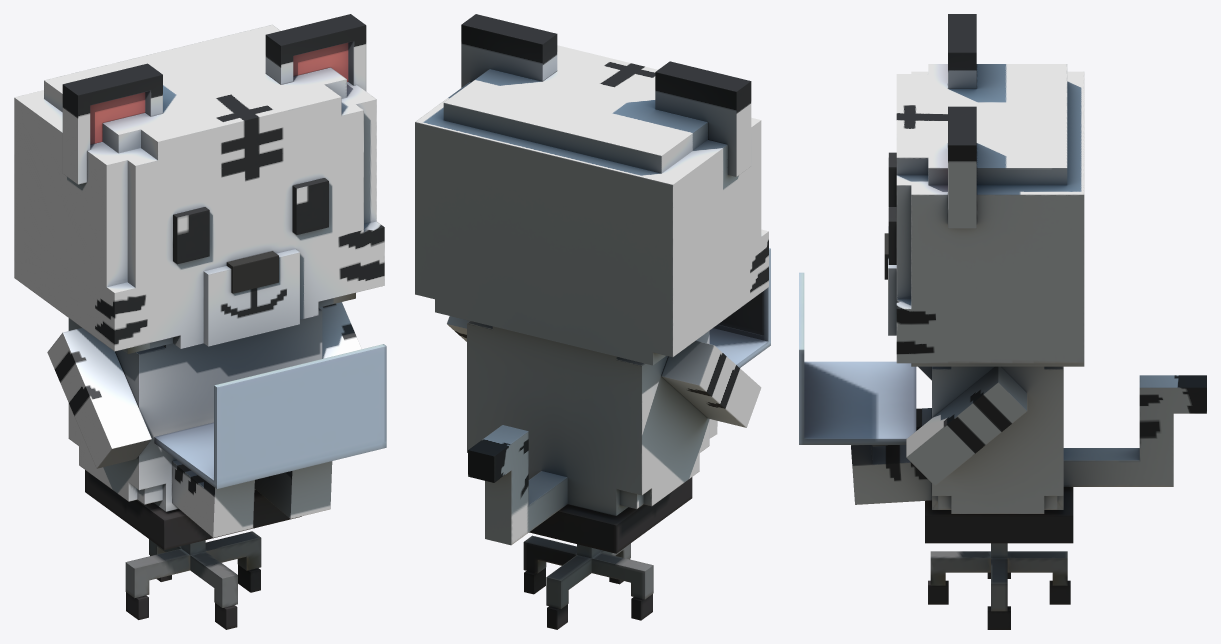
The model's file is hankyeong2.fbx.
The picture shows the model from 3 angles, left to right: view 1: azimuth 30°, elevation 25°; view 2: azimuth 150°, elevation 25°; view 3: azimuth 270°, elevation 25°; orthographic projection. The views are drawn at different scales.
Parts seen in each view (by area): view 1: Cube; view 2: Cube; view 3: Cube.
Part boxes in pixels (x1=…): Cube: x1=14, y1=14, x2=386, y2=629; Cube: x1=415, y1=14, x2=770, y2=629; Cube: x1=799, y1=14, x2=1206, y2=629.
Size of the model in its own units: 34296 by 63678 by 45024.
